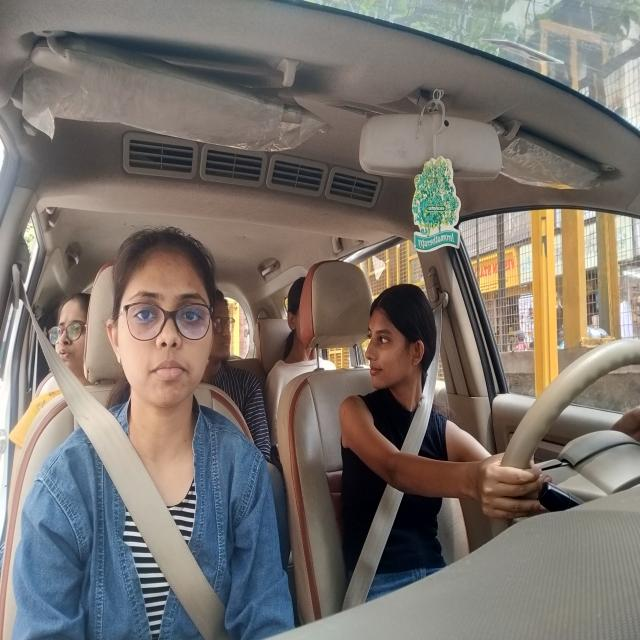LeftRight: (351, 276, 449, 448)
person: (107, 224, 241, 432), (42, 274, 90, 394), (213, 279, 246, 383)
